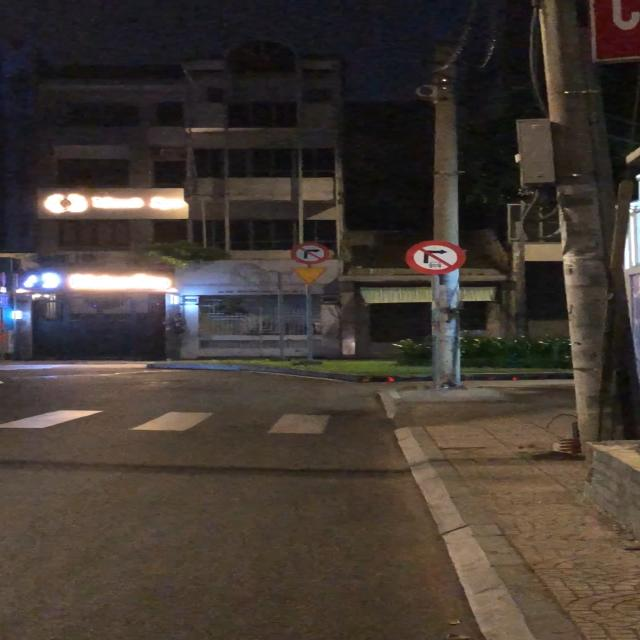Bien bao cam re phai: (288, 242, 332, 265)
Bien bao cam xe o to re phai: (405, 240, 469, 275)
Bien bao giao nhau voi duong uu tien: (288, 265, 331, 287)
